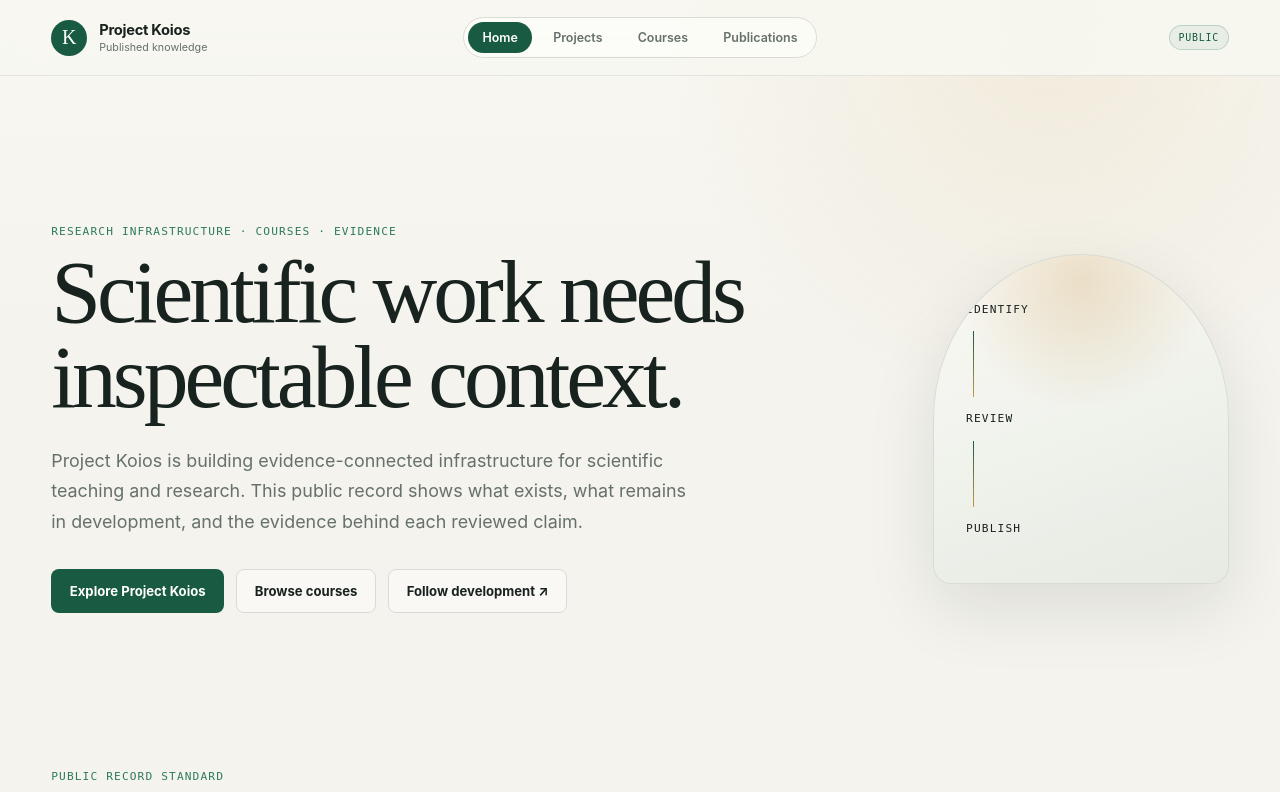
Test: public profile exposes public-safe course metadata
Click the link "Courses": (663, 38) [638,30,688,45]
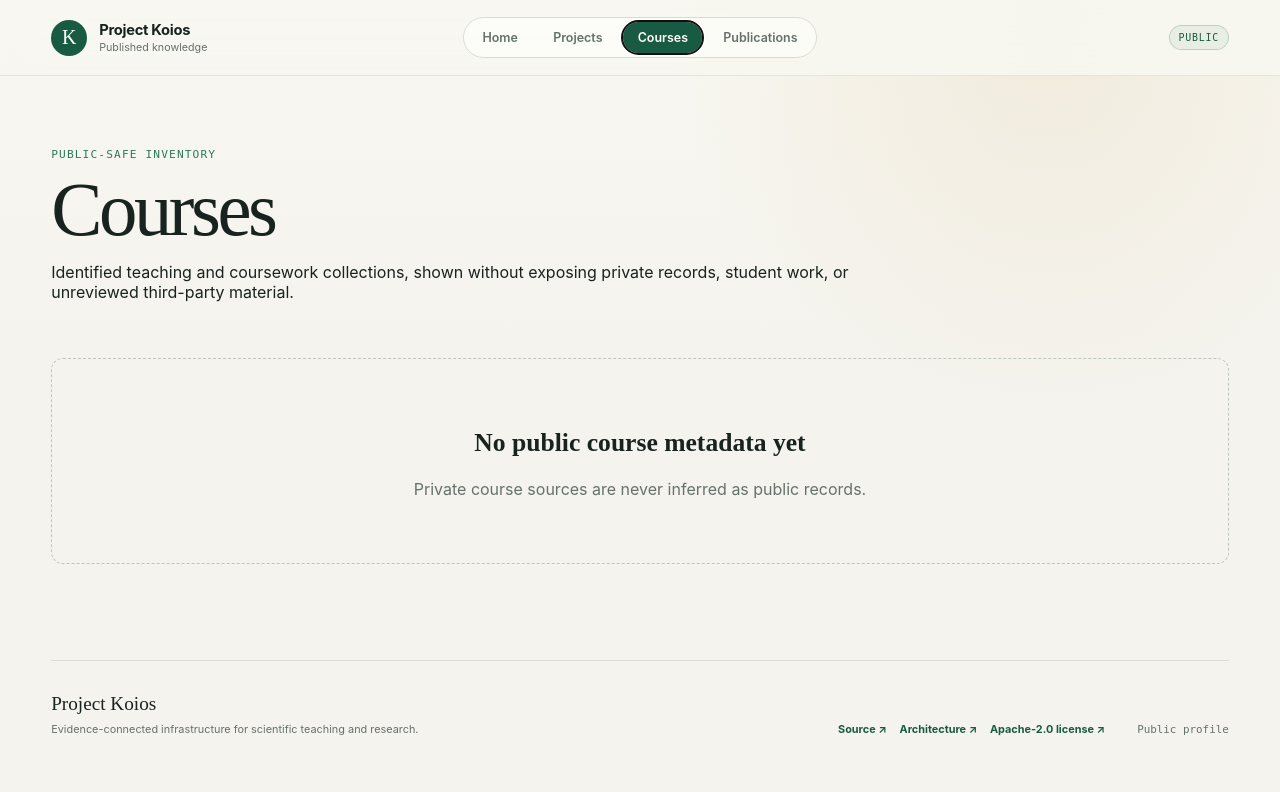
Check: the heading "Courses" is shown, box [51,167,274,252]
Check: the heading "No public course metadata yet" is shown, box [474,428,806,457]
